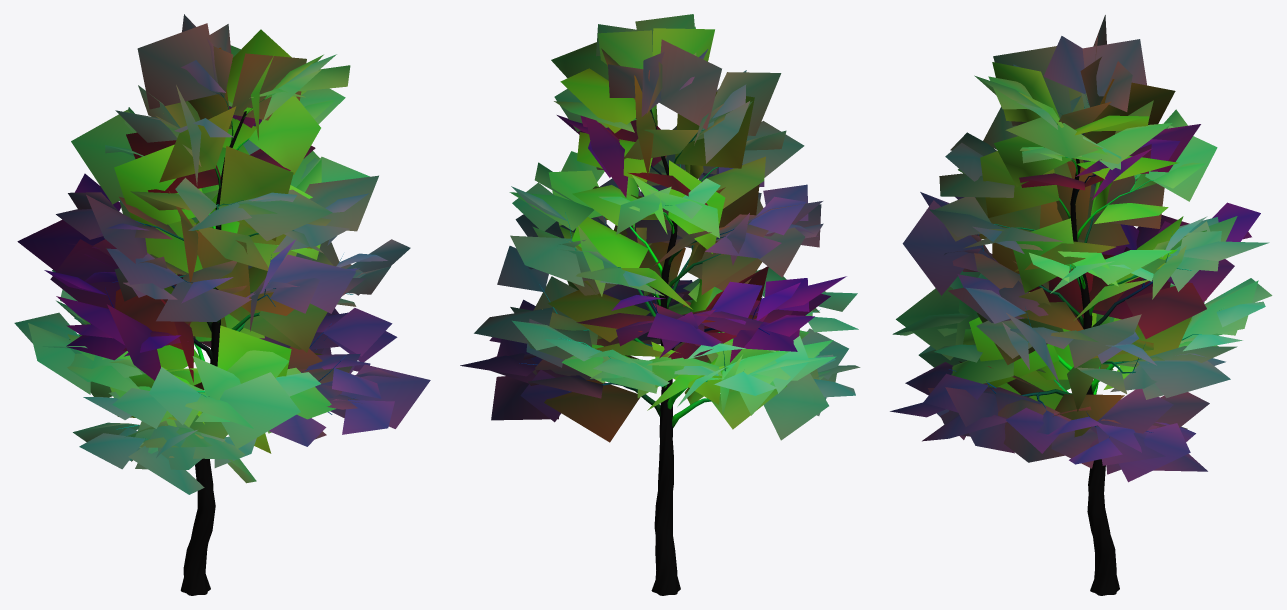
File: SM_WLTree_07.FBX
3 renders of one model, left to right at view 1: azimuth 30°, elevation 25°; view 2: azimuth 150°, elevation 25°; view 3: azimuth 270°, elevation 25°, orthographic. The views are drawn at different scales.
Parts seen in each view (by area): view 1: SM_WLTree_07_LOD0; view 2: SM_WLTree_07_LOD0; view 3: SM_WLTree_07_LOD0.
Boxes of the visible parts, x1,y1,x2,y2 form: SM_WLTree_07_LOD0: (14, 14, 430, 595); SM_WLTree_07_LOD0: (460, 14, 860, 595); SM_WLTree_07_LOD0: (890, 15, 1272, 595).
Size of what is drawn, in the model's own units: 478 by 454 by 731.
